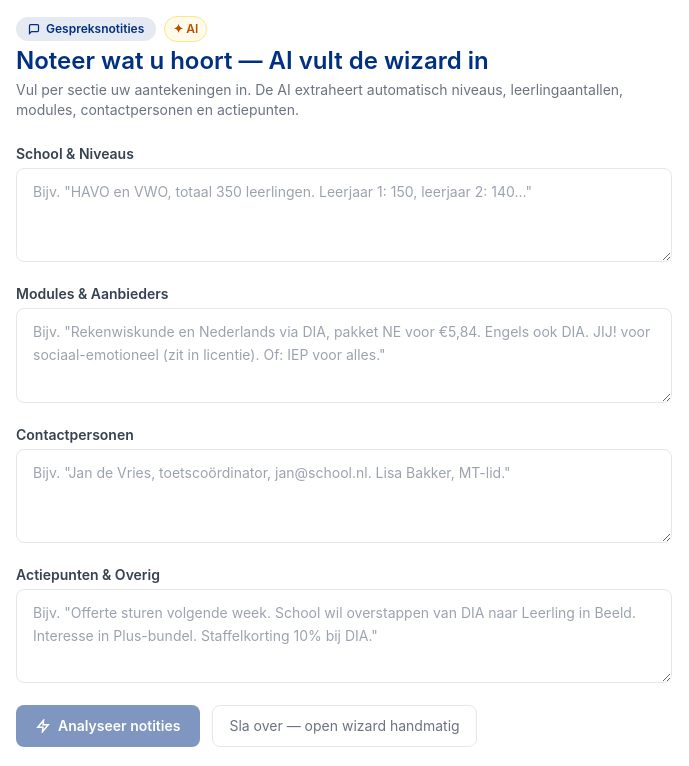
Test: IntakePanel › analyse button becomes enabled after typing content
Type "HAVO en VWO, 350 leerlingen" into the text box labelled "School & Niveaus" at (344, 215), box [16,168,672,262]
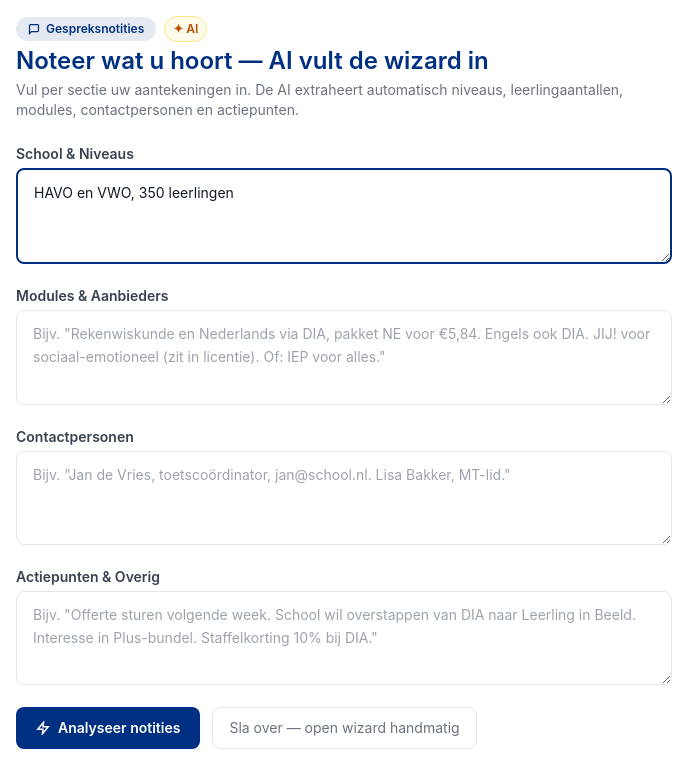
Check: the button "Analyseer notities" is enabled, box [16,707,200,749]
